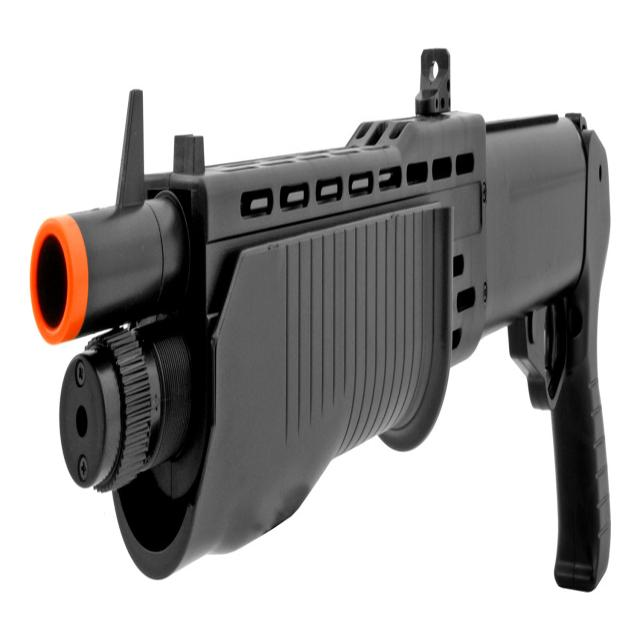ShotGun: (28, 47, 615, 595)
